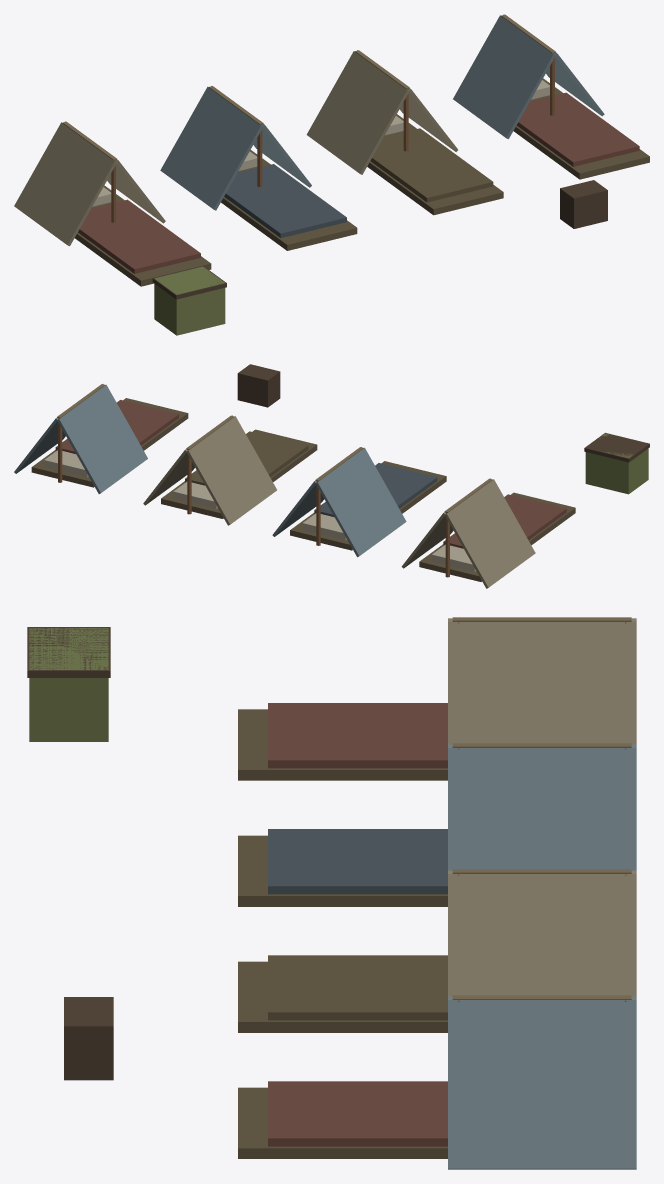
File: room_sleeping_1.glb
3 renders of one model, top to bottom at view 1: azimuth 30°, elevation 25°; view 2: azimuth 150°, elevation 25°; view 3: azimuth 270°, elevation 25°, orthographic. The views are drawn at different scales.
Parts seen in each view (by area): view 1: room_sleeping_1; view 2: room_sleeping_1; view 3: room_sleeping_1.
Boxes of the visible parts, x1,y1,x2,y2 form: room_sleeping_1: (14,14,649,335); room_sleeping_1: (14,364,649,588); room_sleeping_1: (27,617,636,1169).
Size of the model in its own units: 5.62 by 0.7334 by 3.06.
